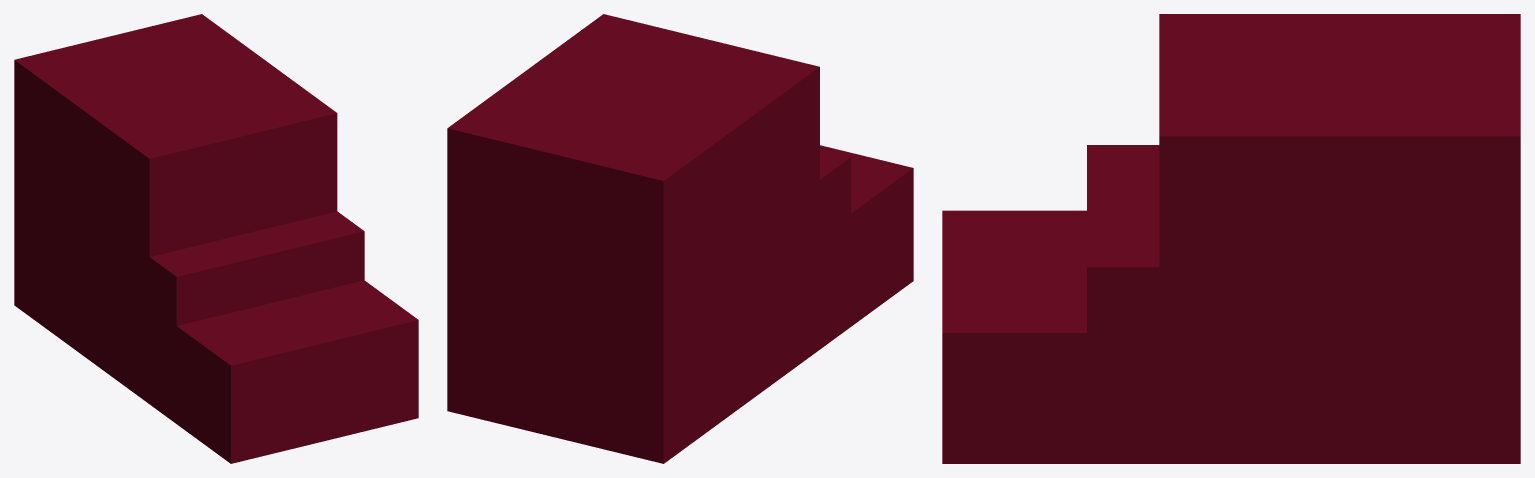
The model's file is Demon_Right_Leg.obj.
3 renders of one model, left to right at view 1: azimuth 30°, elevation 25°; view 2: azimuth 150°, elevation 25°; view 3: azimuth 270°, elevation 25°, orthographic. The views are drawn at different scales.
Size of the model in its own units: 0.4 by 0.5 by 0.8.
Materials: 1 (1 with a texture image).
